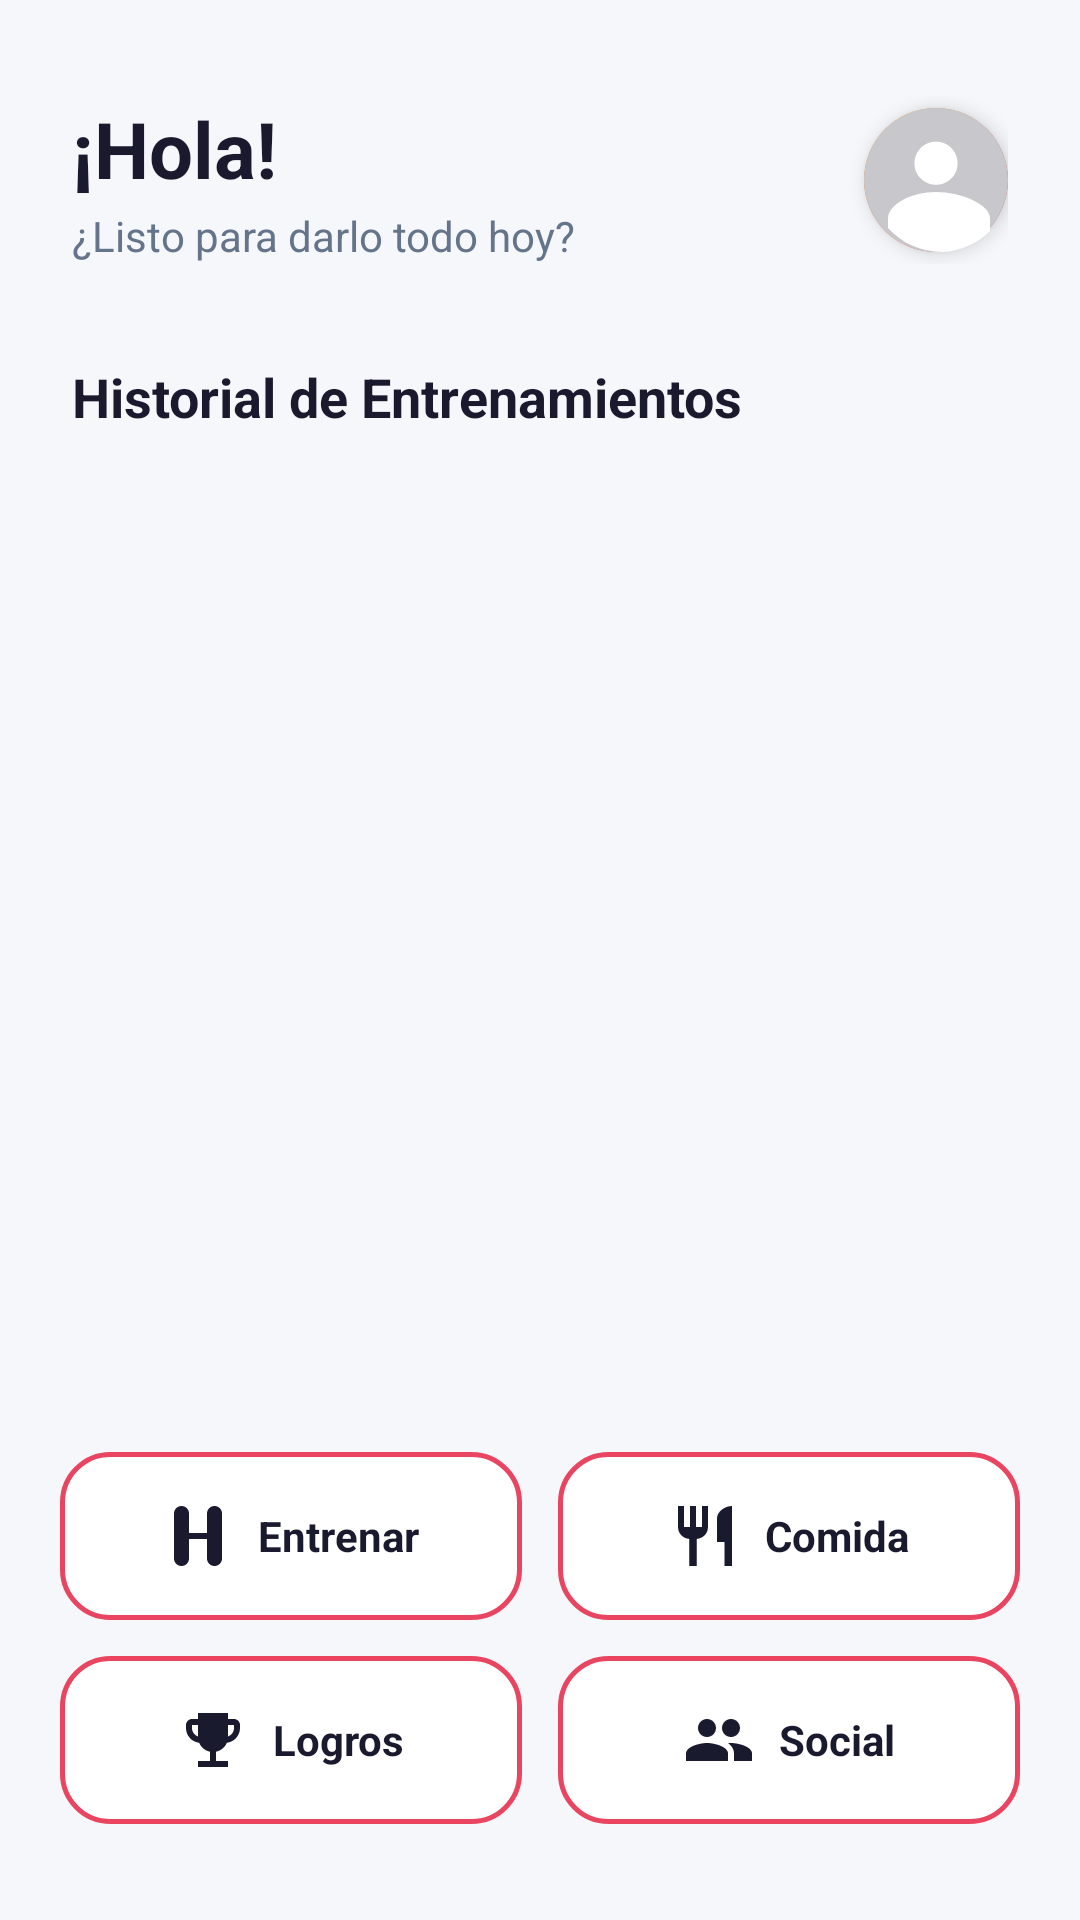

Named icons in this screenshot (1080 x 1920) and their bounding boxes, (x1, y1, x2, y2):
perfil defecto: (864, 108, 1008, 252)
